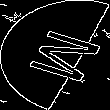M_SE: (10, 24, 100, 86)
